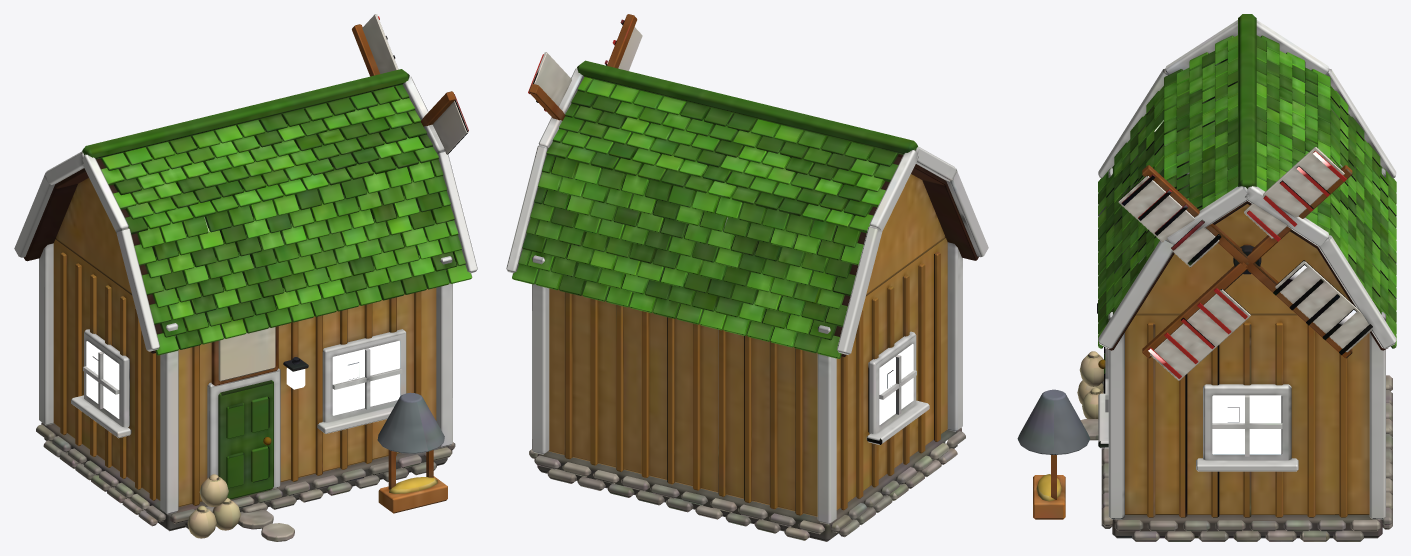
The model's file is feed_mill.glb.
3 views of the same model, side by side, from view 1: azimuth 30°, elevation 25°; view 2: azimuth 150°, elevation 25°; view 3: azimuth 270°, elevation 25° (orthographic). The views are drawn at different scales.
Parts seen in each view (by area): view 1: feed_mill, spinX_sails; view 2: feed_mill, spinX_sails; view 3: feed_mill, spinX_sails.
Part boxes in pixels (left/top/right/bottom): feed_mill: left=14, top=69, right=477, bottom=541; spinX_sails: left=352, top=14, right=468, bottom=154; feed_mill: left=506, top=60, right=988, bottom=541; spinX_sails: left=528, top=14, right=642, bottom=120; feed_mill: left=1017, top=14, right=1396, bottom=541; spinX_sails: left=1118, top=147, right=1372, bottom=380.
Size of the model in its own units: 1.75 by 1.93 by 1.63.
1 material, 1 textured.
